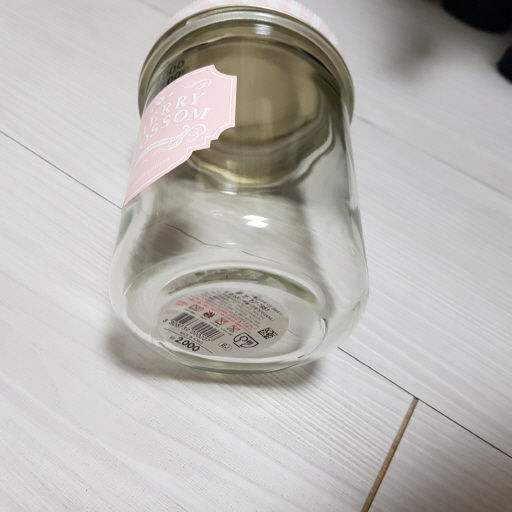Glass_5: (115, 2, 369, 371)
